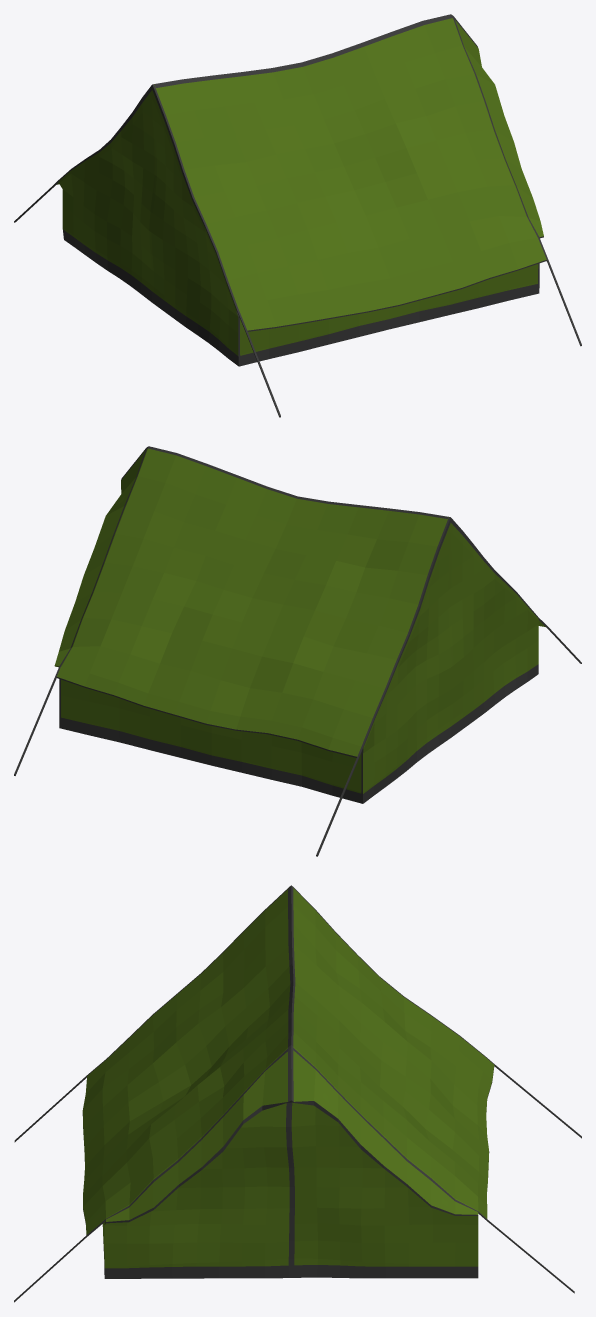
The model's file is tent2.fbx.
The picture shows the model from 3 angles, top to bottom: view 1: azimuth 30°, elevation 25°; view 2: azimuth 150°, elevation 25°; view 3: azimuth 270°, elevation 25°; orthographic projection. The views are drawn at different scales.
Parts seen in each view (by area): view 1: Cube; view 2: Cube; view 3: Cube.
Part boxes in pixels (<box>): Cube: <box>14,14,581,417</box>; Cube: <box>14,446,581,856</box>; Cube: <box>14,885,581,1302</box>.
Bounding box in the file's own units: 219 × 153 × 304.
